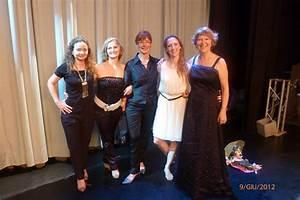hen: (223, 139, 262, 174)
